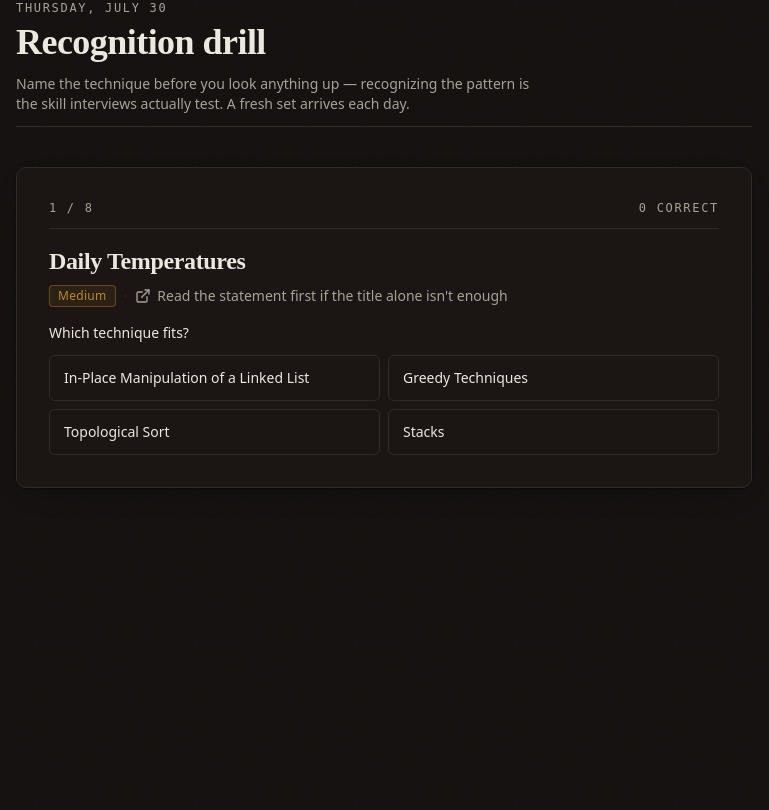
Scenario: DrillsPage › a correct pick reveals the family teaching block and advances
Click the button "Stacks": (424, 432) [388, 409, 719, 455]
(page scrolled)
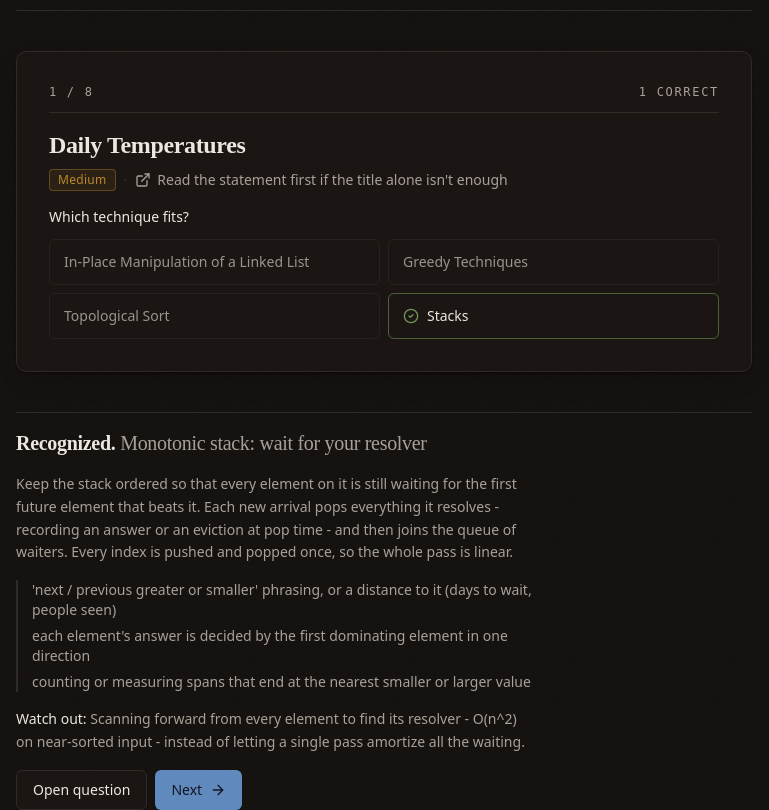
Result: the heading "Recognized." is shown at [16, 432, 116, 454]
Result: the text "Watch out:" is shown at [16, 709, 87, 728]
Click the button "Next": (199, 790) [155, 770, 242, 809]
(page scrolled)
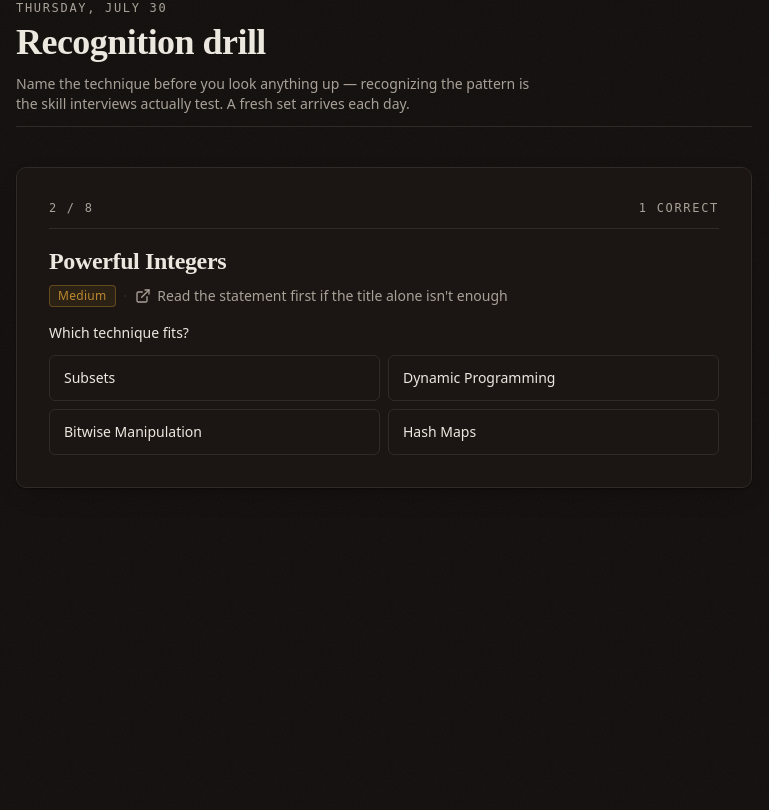
Result: the text "2 / 8" is shown at [49, 200, 94, 216]
